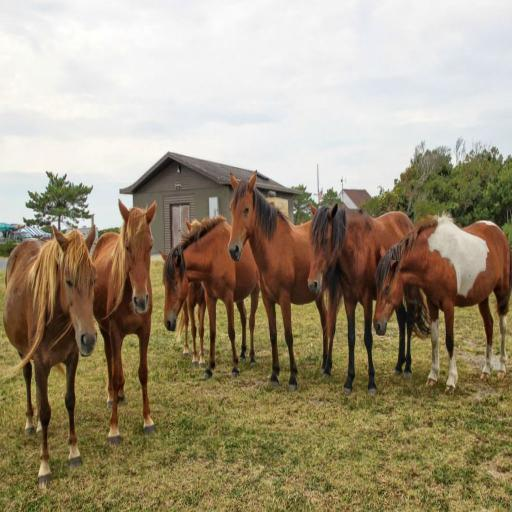Horse: (159, 170, 512, 397), (372, 210, 512, 395), (305, 200, 431, 395), (6, 222, 97, 491), (229, 169, 330, 392), (158, 214, 260, 379), (91, 198, 156, 444)
